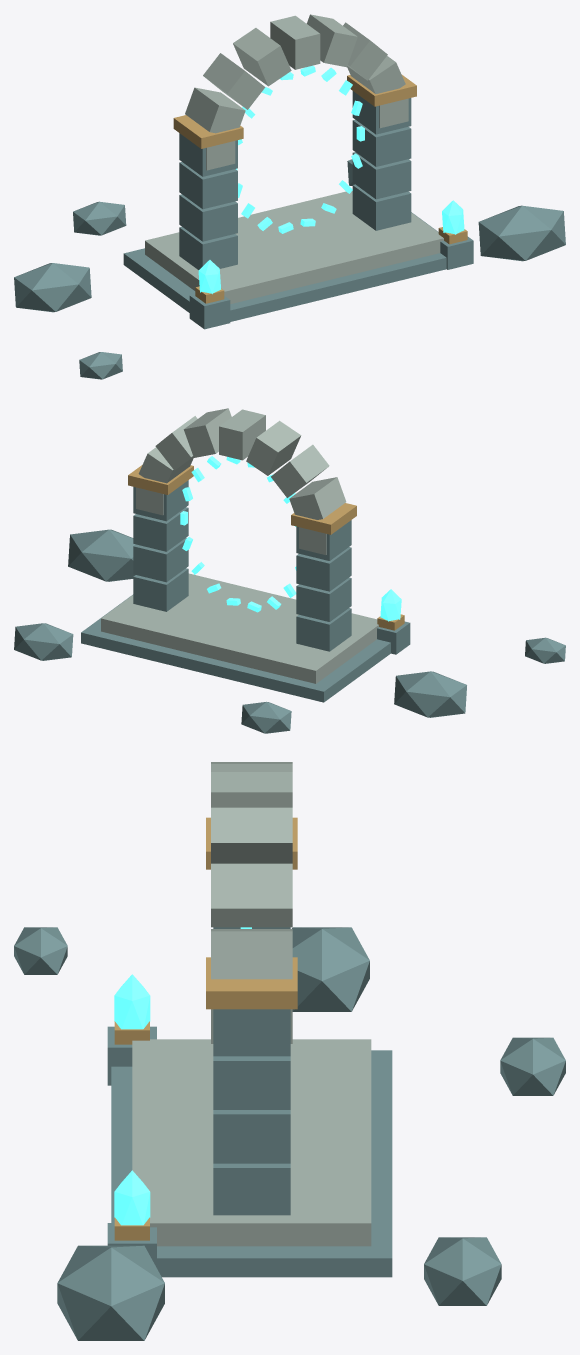
File: portal.glb
3 views of the same model, one above another, from view 1: azimuth 30°, elevation 25°; view 2: azimuth 150°, elevation 25°; view 3: azimuth 270°, elevation 25° (orthographic). The views are drawn at different scales.
Parts seen in each view (by area): view 1: Upper plinth, Lower plinth, Icosphere.003, Icosphere, Arch stone 5, Arch stone 4, Pillar -1 1, Pillar -1 2, Pillar 1 0, Arch stone 7, Pillar 1 1, Pillar 1 2 (+17 smaller); view 2: Upper plinth, Lower plinth, Icosphere.003, Icosphere, Icosphere.001, Arch stone 5, Pillar -1 1, Pillar -1 2, Arch stone 4, Pillar -1 0, Pillar 1 0, Pillar 1 1 (+16 smaller); view 3: Upper plinth, Lower plinth, Icosphere.003, Icosphere, Arch stone 2, Arch stone 3, Icosphere.001, Pillar 1 1, Pillar 1 2, Arch stone 1, Pillar 1 0, Pillar 1 3 (+8 smaller).
Boxes of the visible parts, x1,y1,x2,y2 form: Upper plinth: (145, 191, 443, 303); Lower plinth: (123, 212, 446, 321); Icosphere.003: (478, 205, 565, 261); Icosphere: (14, 263, 91, 312); Arch stone 5: (233, 28, 291, 86); Arch stone 4: (270, 15, 320, 69); Pillar -1 1: (179, 194, 237, 241); Pillar -1 2: (179, 162, 237, 209); Pillar 1 0: (352, 184, 411, 230); Arch stone 7: (185, 87, 245, 133); Pillar 1 1: (352, 152, 411, 199); Pillar 1 2: (352, 119, 411, 166); Upper plinth: (101, 573, 378, 683); Lower plinth: (81, 594, 390, 702); Icosphere.003: (68, 529, 135, 581); Icosphere: (394, 671, 466, 717); Icosphere.001: (14, 623, 73, 660); Arch stone 5: (246, 420, 301, 475); Pillar -1 1: (296, 577, 351, 621); Pillar -1 2: (296, 547, 351, 591); Arch stone 4: (219, 409, 265, 460); Pillar -1 0: (296, 608, 351, 651); Pillar 1 0: (133, 568, 188, 611); Pillar 1 1: (133, 537, 188, 582); Upper plinth: (132, 1039, 371, 1246); Lower plinth: (111, 1050, 392, 1277); Icosphere.003: (57, 1245, 164, 1340); Icosphere: (292, 927, 369, 1011); Arch stone 2: (211, 863, 292, 927); Arch stone 3: (211, 807, 292, 863); Icosphere.001: (424, 1237, 501, 1305); Pillar 1 1: (213, 1110, 290, 1163); Pillar 1 2: (213, 1056, 290, 1109); Arch stone 1: (211, 929, 292, 979); Pillar 1 0: (213, 1163, 290, 1215); Pillar 1 3: (213, 1009, 290, 1056).
Size of what is drawn, in the model's own units: 13.69 by 6.41 by 7.85.
